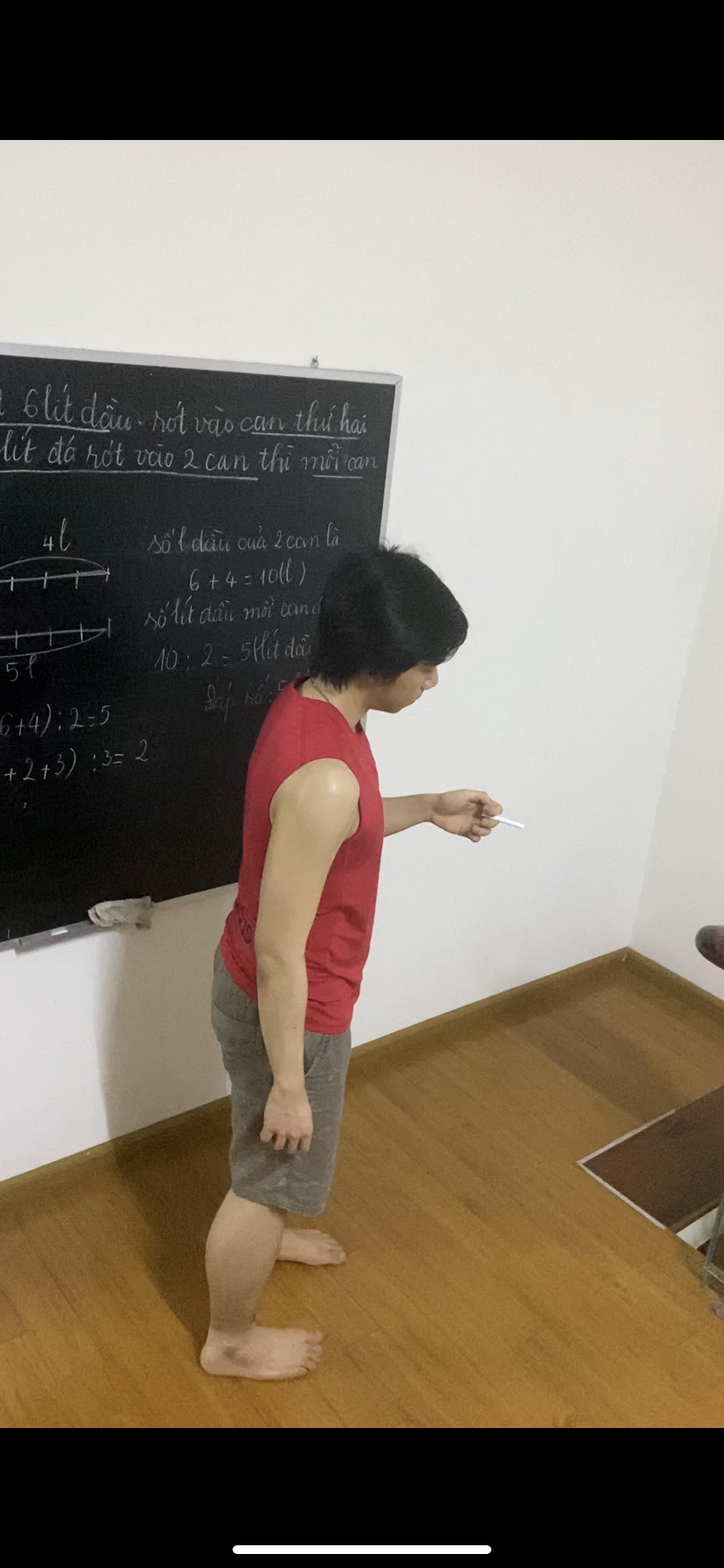cigarette: (491, 815, 529, 836)
person: (200, 539, 512, 1294)
